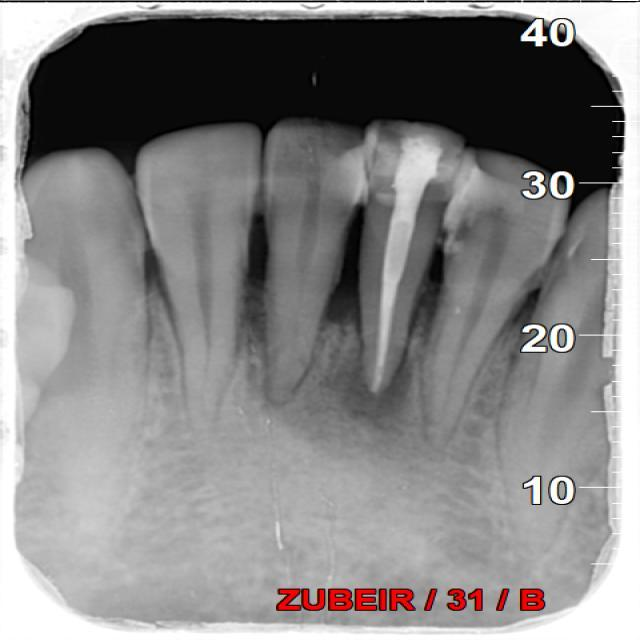individual-tooth-8tto: (426, 152, 587, 446), (133, 125, 273, 429), (266, 116, 373, 405), (362, 121, 463, 395)
